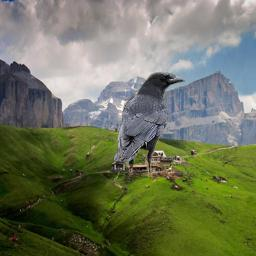Crow: (112, 72, 185, 175)
